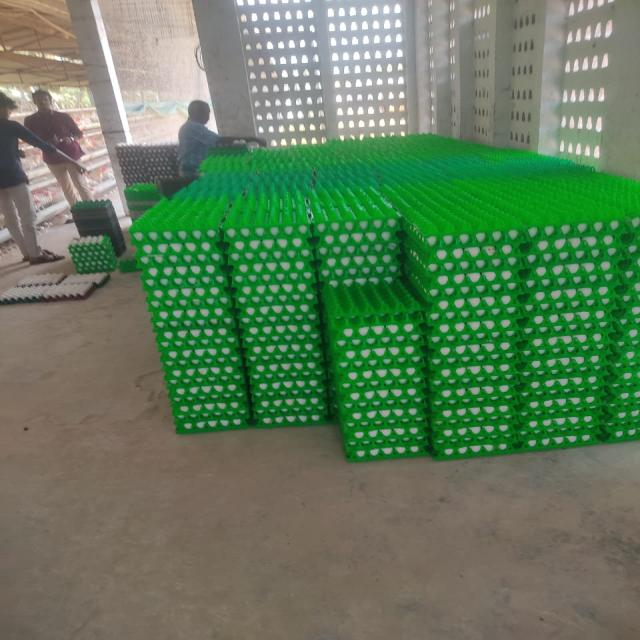egg_tray: (409, 225, 615, 448), (408, 228, 519, 458), (409, 228, 519, 458), (519, 222, 621, 448), (225, 200, 327, 426), (138, 230, 249, 432), (326, 286, 427, 460), (429, 344, 597, 446), (427, 300, 518, 457), (235, 271, 327, 426), (427, 313, 517, 438), (519, 228, 621, 334), (405, 226, 522, 318), (427, 340, 519, 457), (519, 334, 610, 447), (428, 344, 518, 456), (157, 324, 250, 432), (332, 318, 423, 428), (158, 324, 250, 432), (157, 325, 249, 432), (229, 226, 319, 328), (520, 222, 624, 310), (156, 318, 247, 418), (429, 362, 522, 458), (521, 344, 608, 446), (520, 346, 607, 448), (138, 232, 232, 326), (309, 190, 400, 286), (244, 322, 327, 426), (429, 363, 519, 458), (131, 200, 225, 288), (602, 218, 639, 441), (336, 368, 426, 459), (427, 285, 519, 368), (230, 247, 319, 330), (246, 334, 327, 425), (519, 334, 610, 414), (167, 346, 250, 432), (224, 210, 315, 288), (139, 242, 231, 319), (337, 384, 427, 460), (323, 280, 426, 346), (229, 258, 317, 330), (520, 372, 602, 448), (247, 350, 327, 426), (225, 224, 315, 288), (137, 238, 227, 302), (224, 193, 311, 259), (520, 220, 625, 274), (429, 296, 519, 357), (309, 188, 399, 246), (341, 406, 427, 460), (251, 368, 327, 426), (319, 232, 400, 286), (251, 375, 329, 427), (251, 372, 325, 425), (172, 384, 250, 432), (245, 333, 323, 378), (252, 380, 328, 426), (0, 273, 109, 304), (227, 230, 313, 265), (137, 230, 222, 265), (608, 282, 639, 377), (601, 367, 639, 441), (345, 428, 429, 461), (147, 282, 232, 314), (150, 296, 235, 328), (601, 370, 639, 441), (521, 416, 599, 450), (130, 206, 192, 248), (117, 144, 177, 186), (231, 260, 316, 288), (159, 342, 241, 370), (235, 280, 317, 308), (143, 263, 228, 290), (403, 227, 433, 303), (239, 300, 319, 328), (242, 321, 321, 348), (175, 404, 250, 432), (0, 282, 95, 304), (156, 324, 239, 349), (432, 436, 518, 460), (0, 273, 65, 304), (245, 338, 321, 362), (69, 236, 117, 274), (125, 184, 161, 220), (43, 281, 96, 301), (72, 252, 117, 274), (0, 284, 49, 304), (72, 254, 117, 274), (606, 418, 639, 441), (64, 272, 110, 288), (71, 200, 114, 216), (16, 273, 66, 286), (443, 402, 468, 420), (379, 282, 409, 296), (380, 386, 419, 396), (118, 257, 141, 272), (457, 386, 480, 398), (454, 345, 482, 354), (463, 418, 478, 430), (184, 291, 205, 298), (589, 346, 601, 358), (272, 270, 287, 278), (393, 320, 403, 332), (439, 377, 454, 385), (445, 368, 459, 376), (583, 394, 593, 404), (432, 333, 443, 342), (512, 341, 525, 348), (435, 438, 443, 448), (214, 278, 227, 284), (457, 426, 466, 434), (429, 376, 438, 384), (567, 436, 577, 443), (498, 251, 507, 258), (432, 420, 438, 430), (239, 396, 245, 406), (491, 234, 498, 242), (502, 443, 509, 450), (464, 358, 472, 364), (558, 401, 567, 406), (553, 440, 561, 445), (431, 314, 437, 320), (441, 350, 448, 355), (270, 385, 277, 390), (351, 392, 358, 397), (258, 413, 269, 416), (525, 306, 533, 310), (302, 342, 310, 346), (555, 432, 561, 437), (381, 336, 387, 341), (444, 388, 449, 394), (352, 412, 357, 418), (265, 422, 272, 426), (201, 414, 210, 417), (356, 301, 361, 306), (199, 386, 207, 389), (464, 366, 468, 372), (381, 232, 388, 235), (557, 328, 562, 332), (449, 360, 454, 364), (587, 303, 593, 306), (501, 343, 507, 346), (373, 330, 379, 333), (447, 430, 451, 434), (495, 244, 499, 248), (542, 442, 547, 445), (572, 362, 575, 367), (202, 404, 207, 407), (368, 285, 375, 287), (543, 442, 549, 444), (357, 328, 360, 332), (558, 326, 561, 330), (484, 354, 487, 358), (485, 346, 488, 350), (464, 236, 467, 240), (167, 232, 173, 234), (242, 414, 247, 416), (473, 399, 475, 404), (437, 324, 442, 326), (369, 289, 371, 294), (256, 376, 259, 379), (469, 380, 472, 383), (572, 426, 574, 430), (187, 290, 191, 292), (163, 364, 167, 366), (446, 347, 450, 349), (501, 447, 507, 448), (581, 438, 583, 441), (531, 443, 533, 446), (254, 335, 256, 338), (475, 445, 477, 448), (432, 313, 434, 316), (207, 408, 209, 410), (285, 227, 289, 228), (199, 234, 201, 236), (280, 345, 284, 346), (459, 450, 461, 452), (447, 450, 449, 452), (470, 449, 472, 451), (435, 400, 437, 402), (414, 304, 416, 306), (531, 230, 533, 232), (466, 440, 469, 441), (486, 451, 489, 452), (231, 318, 232, 320), (476, 236, 477, 238), (367, 285, 368, 287), (578, 398, 579, 399), (434, 356, 435, 357), (523, 356, 524, 357), (263, 280, 263, 282), (307, 272, 309, 272), (570, 348, 572, 348), (552, 339, 554, 339), (145, 252, 148, 252), (181, 294, 181, 294), (549, 443, 551, 443), (596, 394, 597, 394), (203, 394, 206, 394), (188, 388, 192, 388), (207, 292, 210, 292), (212, 232, 214, 232), (419, 239, 420, 239), (476, 350, 478, 350), (196, 408, 198, 408), (147, 246, 148, 246), (489, 321, 492, 321), (239, 205, 239, 207), (409, 401, 410, 401)
